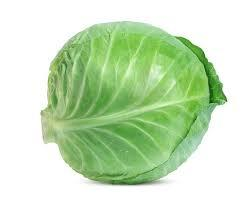non-mango: (40, 19, 227, 185)
